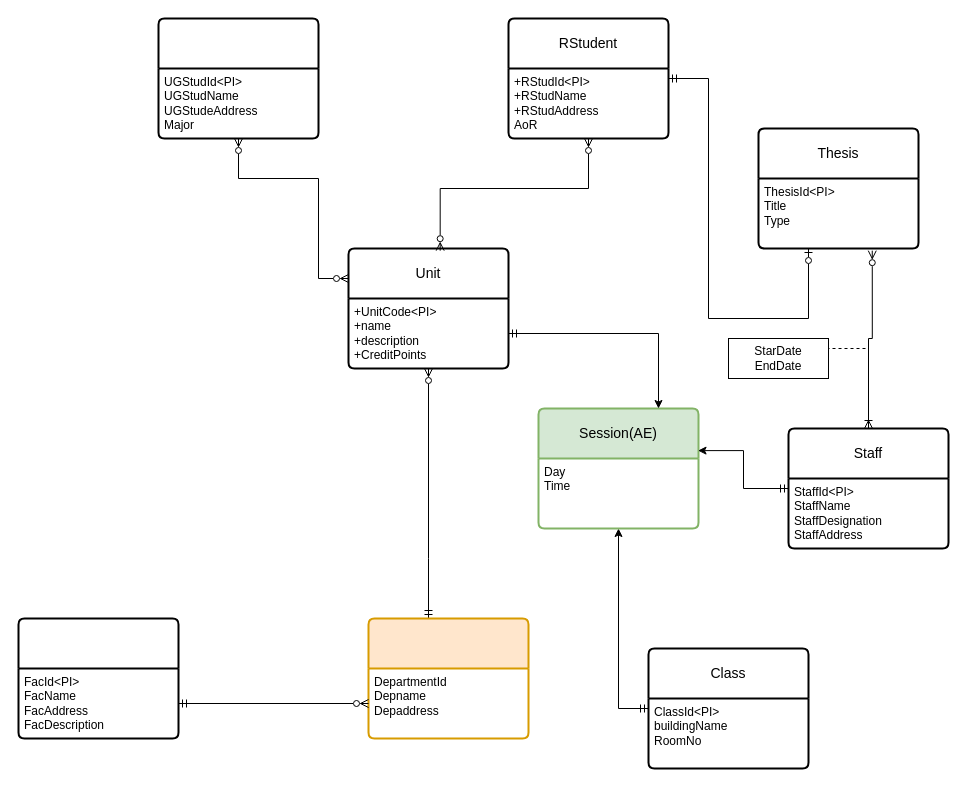
This 966x786 diagram has some shape labels left out. Here are the shapes that lost their labels. From the top down, the box of each, then its label:
(157, 17, 319, 139): UGStudent
(17, 617, 179, 739): Faculty
(367, 617, 529, 739): Department(WE)
